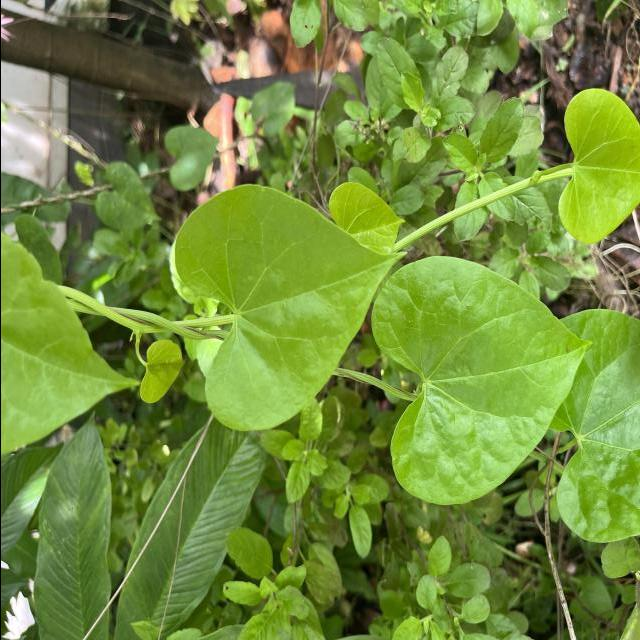Tinospora cordifolia: (170, 182, 410, 434), (367, 253, 596, 509)
